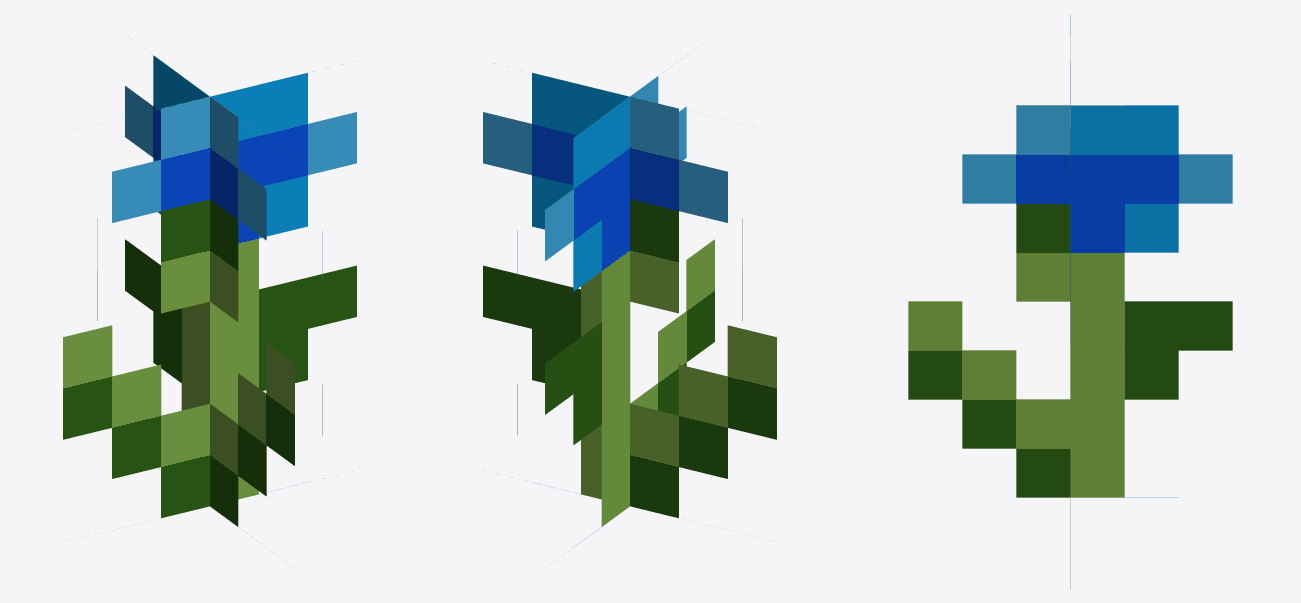
File: Flower_Blue.fbx
3 renders of one model, left to right at view 1: azimuth 30°, elevation 25°; view 2: azimuth 150°, elevation 25°; view 3: azimuth 270°, elevation 25°, orthographic. The views are drawn at different scales.
Visible parts, largest first — view 1: Cube.3980; view 2: Cube.3980; view 3: Cube.3980.
Boxes of the visible parts, bbox=[...] form: Cube.3980: bbox=[63, 35, 356, 562]; Cube.3980: bbox=[483, 55, 776, 564]; Cube.3980: bbox=[908, 14, 1232, 588].
Size of the model in its own units: 200 by 200 by 200.
Materials: 1 (1 with a texture image).
